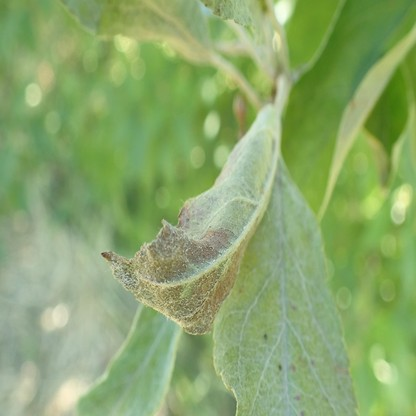powdery_mildew: (101, 103, 281, 335), (213, 148, 358, 416), (76, 304, 183, 416), (201, 0, 257, 35), (62, 0, 104, 32)
